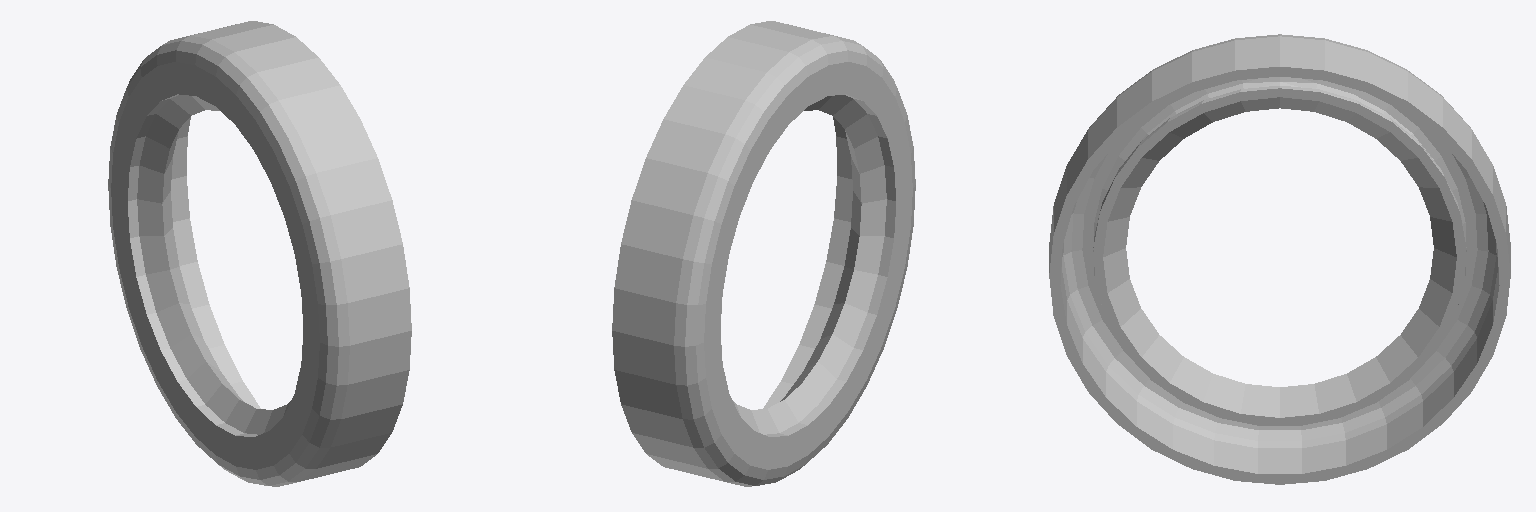
The model's file is Сальник распредвала.obj.
The picture shows the model from 3 angles: view 1: azimuth 30°, elevation 25°; view 2: azimuth 150°, elevation 25°; view 3: azimuth 270°, elevation 25°; orthographic projection.
Visible parts, largest first — view 1: Сальник_распредвала; view 2: Сальник_распредвала; view 3: Сальник_распредвала.
Boxes of the visible parts, box(x1,y1,x2,y2) form: Сальник_распредвала: box(108, 21, 411, 486); Сальник_распредвала: box(612, 21, 915, 486); Сальник_распредвала: box(1049, 34, 1510, 484).
Bounding box in the file's own units: 8.5 × 42 × 42.